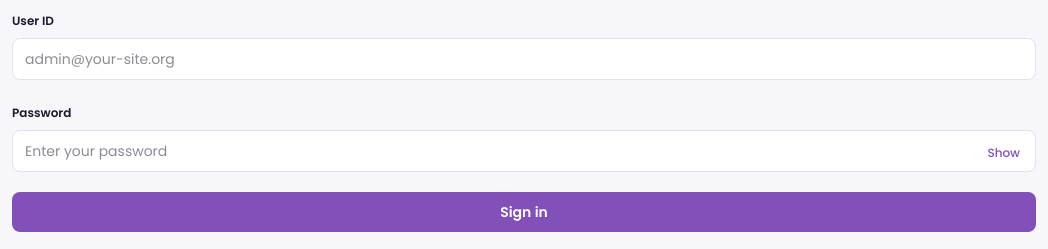
LoginForm › stays busy after a successful sign-in until the page changes, so it cannot be submitted twice
Type "admin@site.org" into the field labelled "User ID" at [524, 59], box [12, 38, 1036, 80]
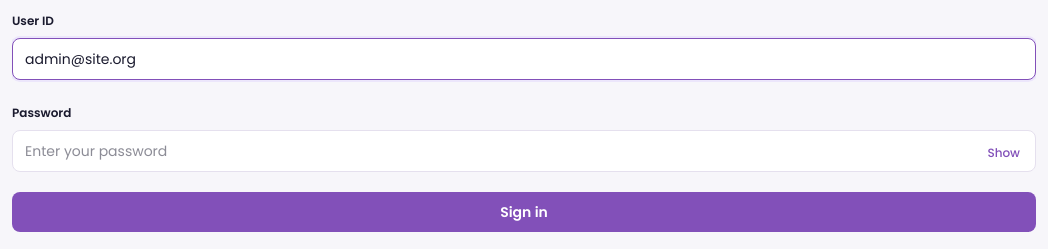
Type "secret" into the password field labelled "Password" at [524, 151], box [12, 130, 1036, 172]
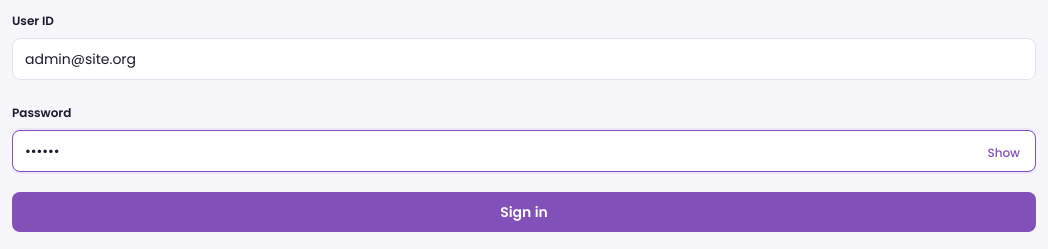
Click the button "Sign in" at [524, 212], box [12, 192, 1036, 232]
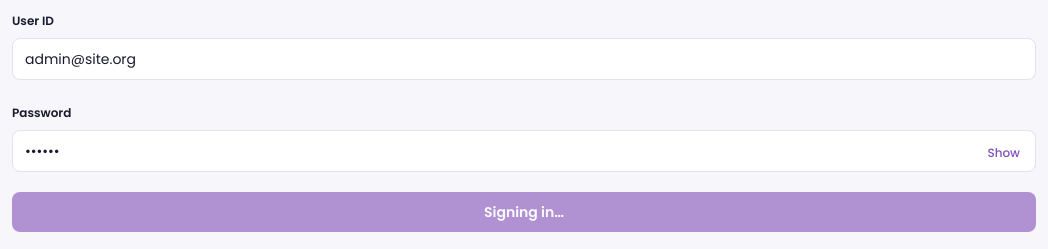
Result: the button "Signing in…" is disabled at [12, 192, 1036, 232]
